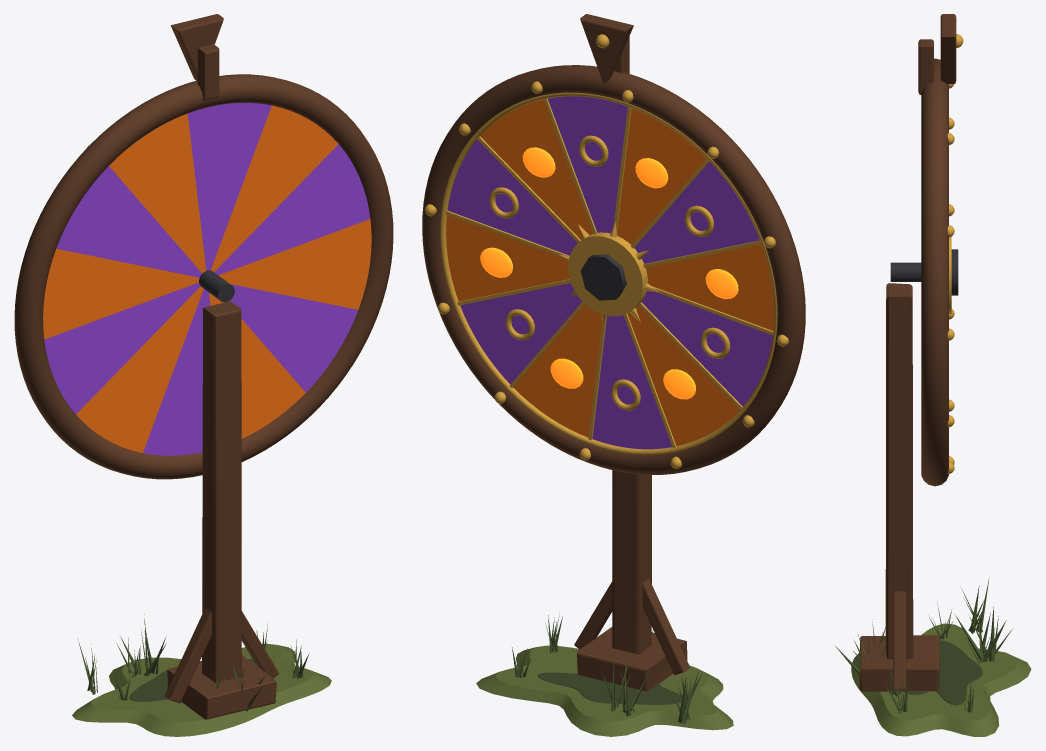
Rendered from BAYOU_WHEEL.glb.
3 renders of one model, left to right at view 1: azimuth 30°, elevation 25°; view 2: azimuth 150°, elevation 25°; view 3: azimuth 270°, elevation 25°, orthographic. The views are drawn at different scales.
Parts seen in each view (by area): view 1: Wedge (×12), Rim_Wood, Stand_Post, Ground, Stand_Foot, Stand_Brace (×2), Grass, Pointer, Pointer_Post, Ground_Mud, Axle; view 2: Wedge (×12), Rim_Wood, Ground, Dividers_Pegs, Stand_Post, Rim_Gold, Wedge_PumpkinToken (×6), Stand_Foot, Hub, Stand_Brace (×2), Ground_Mud, Pointer (+2 smaller); view 3: Rim_Wood, Stand_Post, Ground, Stand_Foot, Grass, Ground_Mud, Stand_Brace, Pointer, Pointer_Post, Axle, Dividers_Pegs, Hub_Plate.
Part boxes in pixels (x1,y1,x2,y2): Wedge (×12): (43,103,371,455); Rim_Wood: (14,74,393,479); Stand_Post: (202,301,241,682); Ground: (72,643,331,736); Stand_Foot: (167,655,276,719); Stand_Brace (×2): (164,608,279,703); Grass: (77,614,309,711); Pointer: (171,14,223,80); Pointer_Post: (197,44,219,100); Ground_Mud: (129,659,255,701); Axle: (199,270,234,302); Wedge (×12): (446,96,774,449); Rim_Wood: (422,65,805,474); Ground: (476,645,733,736); Dividers_Pegs: (425,81,788,468); Stand_Post: (612,470,651,654); Rim_Gold: (440,92,777,454); Wedge_PumpkinToken (×6): (480,147,738,399); Stand_Foot: (577,627,687,691); Hub: (568,232,647,316); Stand_Brace (×2): (574,578,690,675); Ground_Mud: (537,672,682,704); Pointer: (580,14,633,83); Rim_Wood: (921,58,948,486); Stand_Post: (885,283,913,659); Ground: (851,623,1031,736); Stand_Foot: (859,635,939,691); Grass: (835,578,1012,713); Ground_Mud: (907,640,982,705); Stand_Brace: (893,591,906,689); Pointer: (940,14,956,83); Pointer_Post: (918,39,933,94); Axle: (890,262,921,281); Dividers_Pegs: (947,84,954,473); Hub_Plate: (951,249,958,295).
Size of the model in its own units: 9.64 by 16.36 by 4.44.
